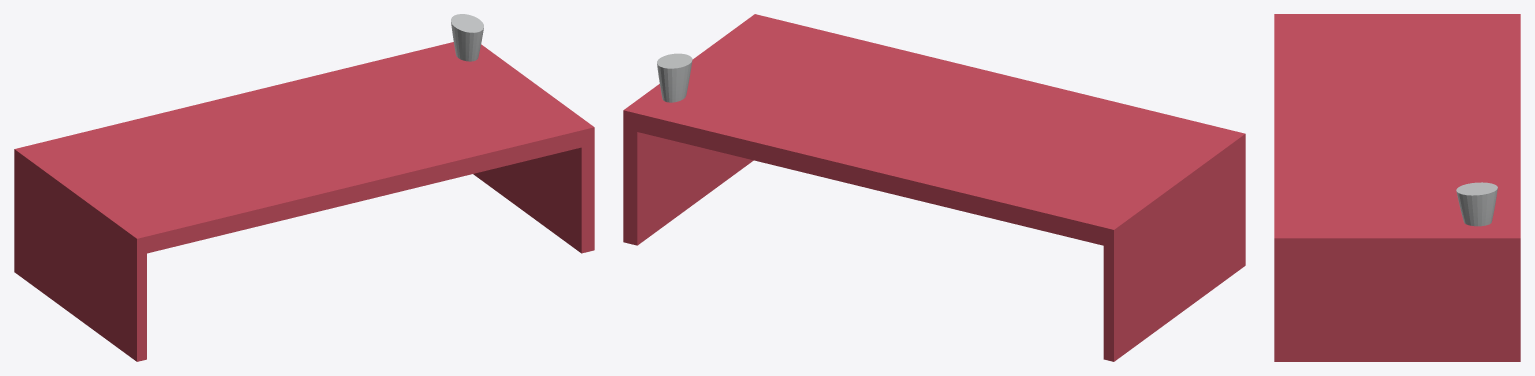
File: Terrific Habbi-Juttuli.glb
3 views of the same model, side by side, from view 1: azimuth 30°, elevation 25°; view 2: azimuth 150°, elevation 25°; view 3: azimuth 270°, elevation 25° (orthographic). The views are drawn at different scales.
Parts seen in each view (by area): view 1: Mesh_Mesh_head_geo.001_lambert2SG.001; view 2: Mesh_Mesh_head_geo.001_lambert2SG.001; view 3: Mesh_Mesh_head_geo.001_lambert2SG.001.
Boxes of the visible parts, left/top/right/bottom form: Mesh_Mesh_head_geo.001_lambert2SG.001: left=14, top=14, right=594, bottom=361; Mesh_Mesh_head_geo.001_lambert2SG.001: left=623, top=14, right=1245, bottom=361; Mesh_Mesh_head_geo.001_lambert2SG.001: left=1274, top=14, right=1520, bottom=361.
Bounding box in the file's own units: 140 × 47 × 65.
